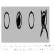correct: (16, 12, 22, 30)
not correct: (40, 7, 49, 41)
